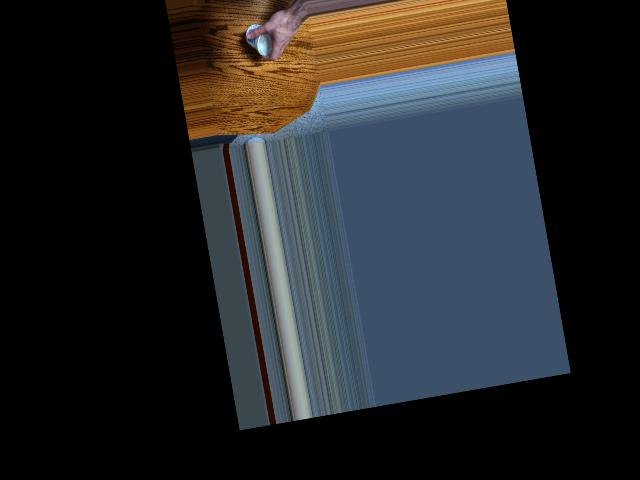cotage: (242, 20, 274, 64)
